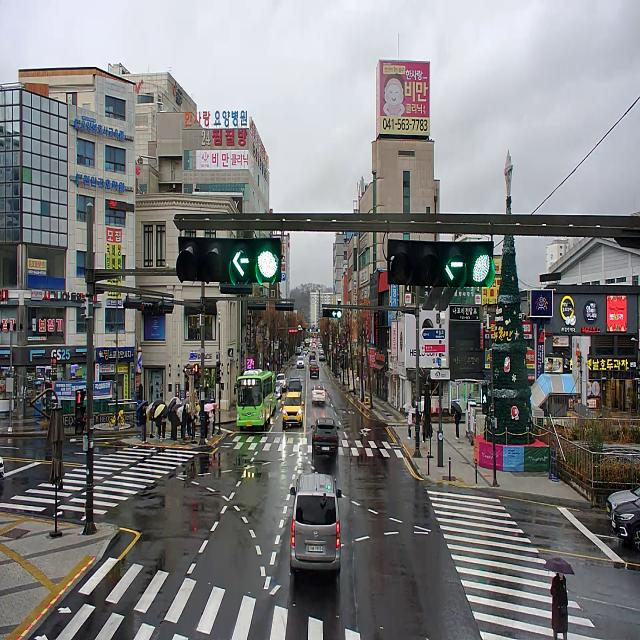Bus: (234, 368, 272, 426), (272, 372, 276, 414), (304, 339, 310, 352)
Car: (290, 472, 342, 570), (611, 497, 640, 551), (606, 484, 640, 520), (310, 417, 340, 455), (282, 390, 304, 424), (288, 378, 302, 398), (312, 384, 326, 402), (276, 374, 286, 391), (276, 379, 283, 398), (310, 364, 319, 378), (0, 455, 4, 479), (297, 356, 304, 367), (319, 352, 325, 361), (310, 362, 317, 369), (310, 356, 316, 364), (295, 350, 300, 355), (304, 349, 308, 355), (319, 348, 323, 354), (298, 347, 301, 354), (310, 360, 316, 362)
